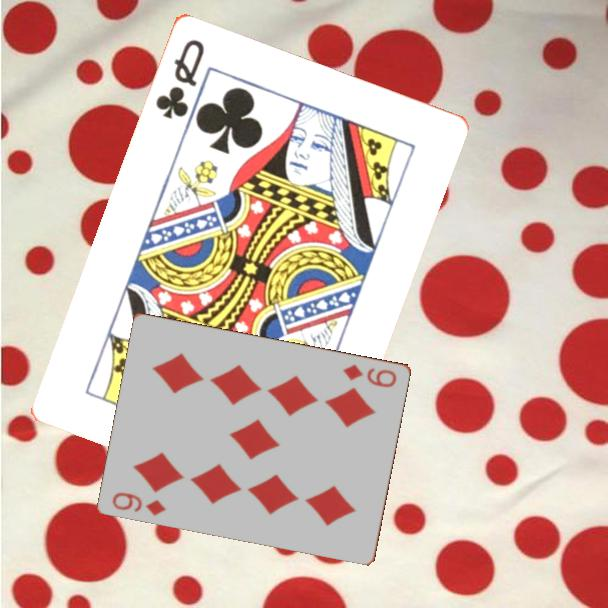c12: (151, 35, 207, 122)
d09: (340, 360, 400, 390), (109, 488, 169, 518)
